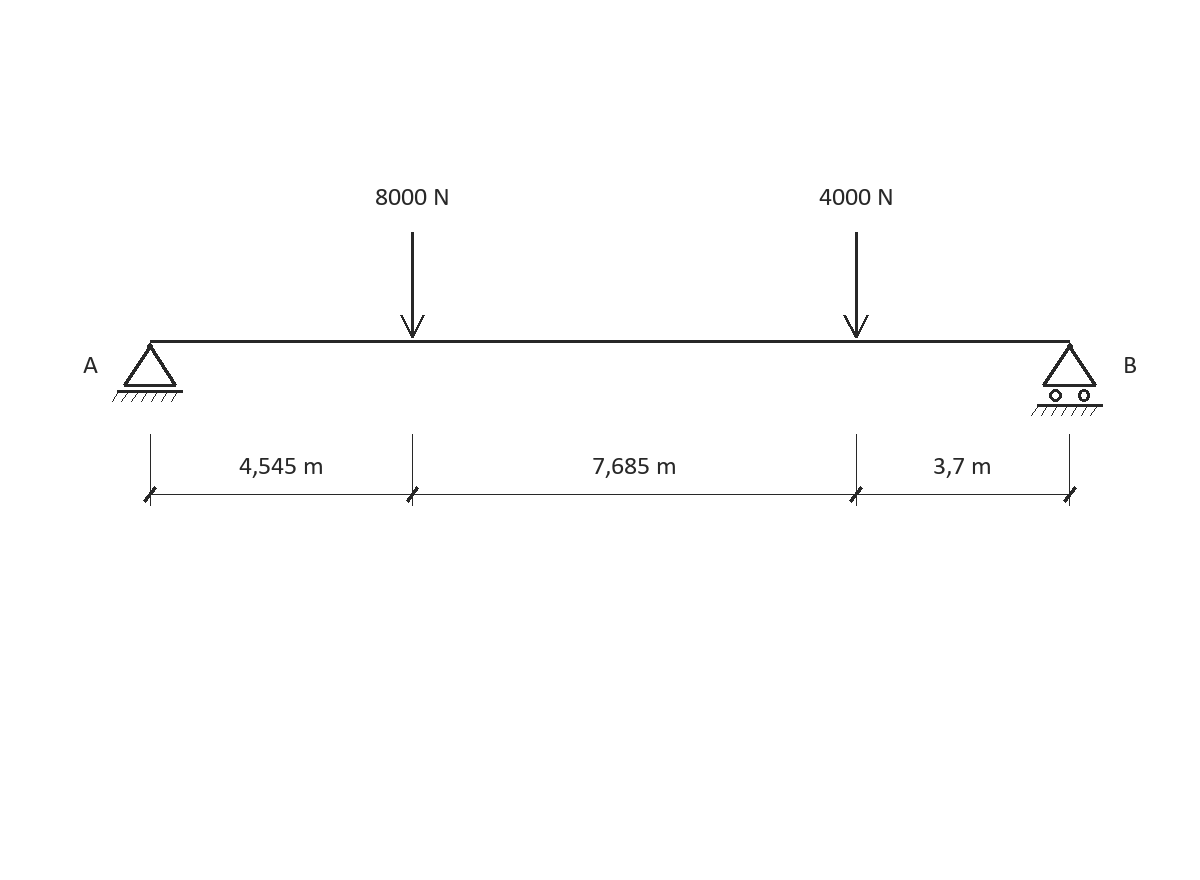pin_support: (112, 343, 183, 402)
point_load: (843, 232, 869, 338), (400, 232, 425, 338)
roller_support: (1031, 343, 1103, 416)
